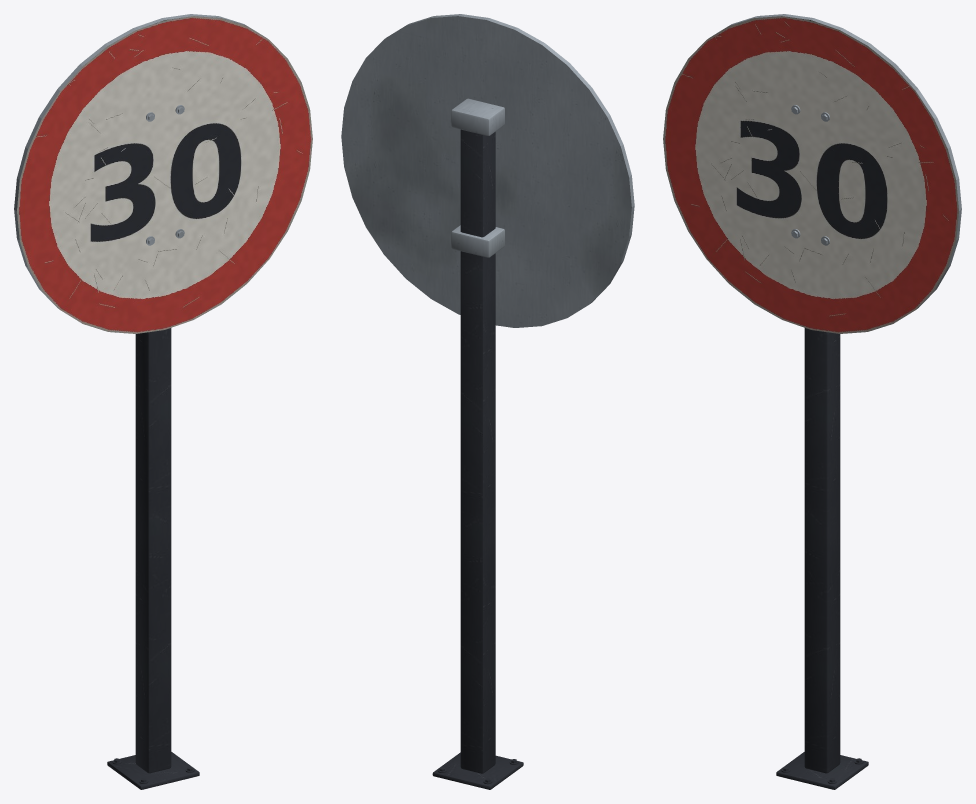
Rendered from speed_limit_sign.glb.
3 views of the same model, side by side, from view 1: azimuth 30°, elevation 25°; view 2: azimuth 150°, elevation 25°; view 3: azimuth 330°, elevation 25° (orthographic).
Parts seen in each view (by area): view 1: SpeedLimitSignMesh; view 2: SpeedLimitSignMesh; view 3: SpeedLimitSignMesh.
Part boxes in pixels (x1=…): SpeedLimitSignMesh: x1=14, y1=14, x2=312, y2=789; SpeedLimitSignMesh: x1=341, y1=14, x2=634, y2=789; SpeedLimitSignMesh: x1=663, y1=14, x2=961, y2=789.
Size of the model in its own units: 0.6 by 1.47 by 0.12.
3 materials, 3 textured.
